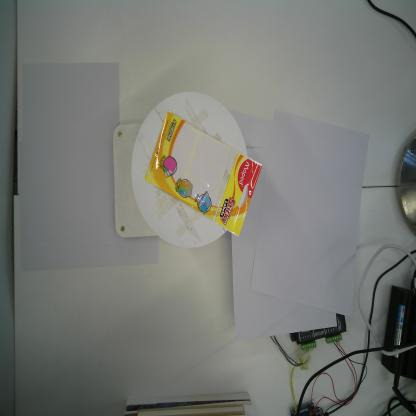Stationery: (144, 107, 262, 239)
